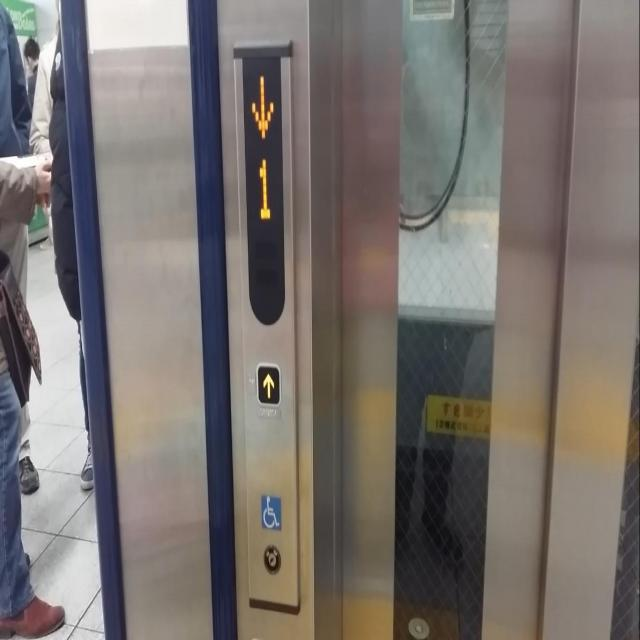CH: (260, 492, 282, 530)
keyhole: (263, 545, 281, 575)
led: (241, 53, 285, 324)
up: (254, 362, 282, 408)
